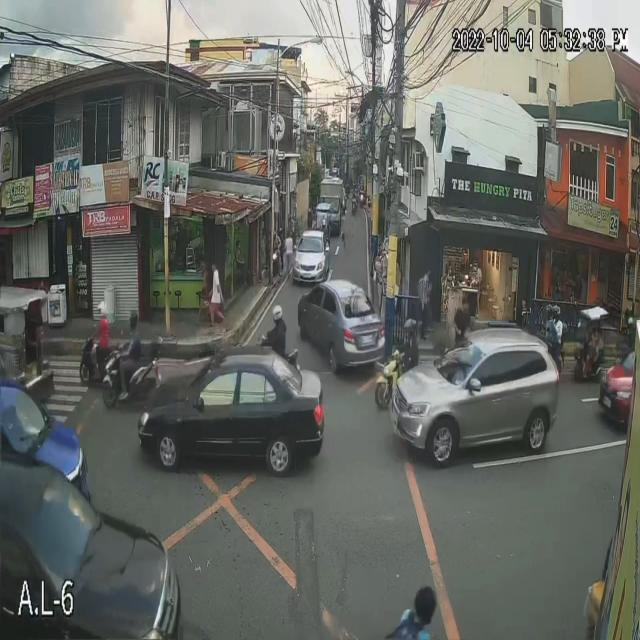Full-Faced: (401, 315, 416, 344), (272, 298, 286, 326), (126, 308, 140, 328), (544, 302, 554, 324), (97, 300, 108, 318)
